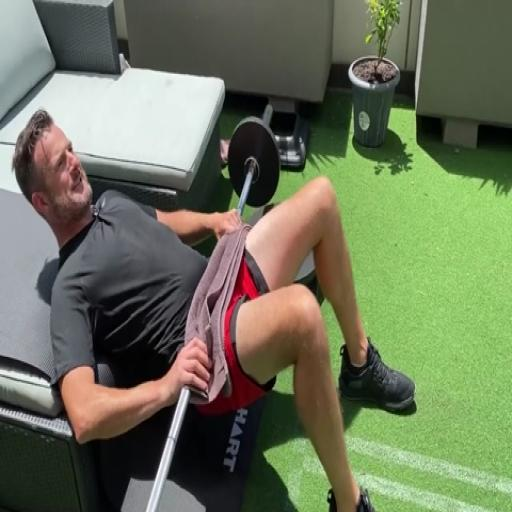exercise: (10, 106, 418, 510)
